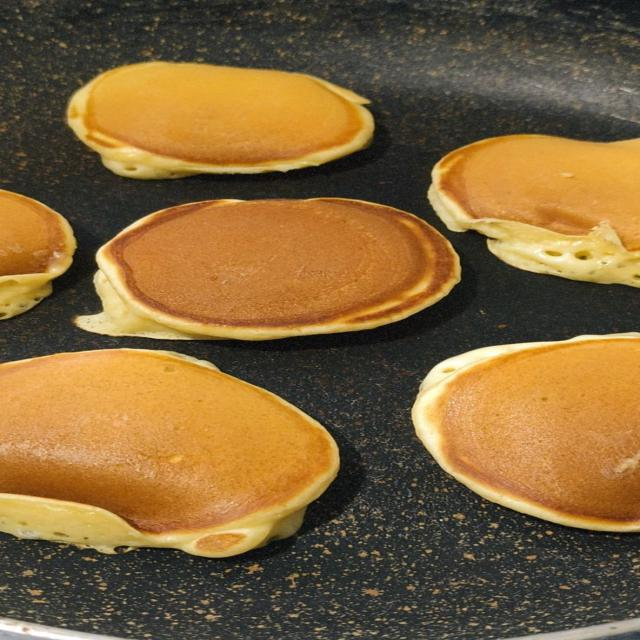pancake: (0, 349, 338, 556), (76, 199, 459, 340), (414, 333, 639, 531), (67, 62, 373, 178), (429, 135, 639, 286), (0, 190, 75, 319)
